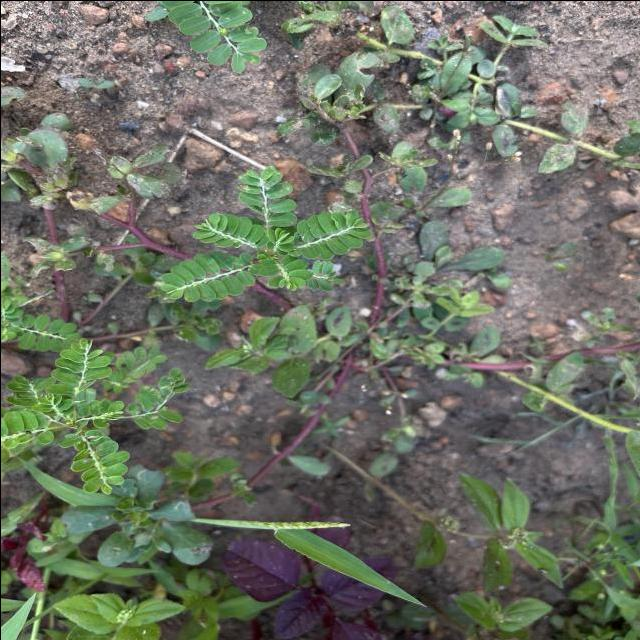Phyllanthus niruri: (159, 250, 257, 302), (58, 426, 130, 496), (288, 206, 373, 262), (47, 334, 112, 400), (237, 163, 298, 228), (190, 212, 269, 248), (257, 254, 315, 292)
